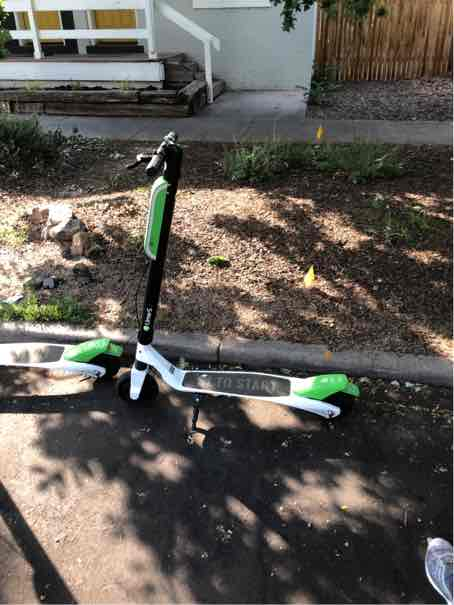scooter: (112, 117, 354, 435)
